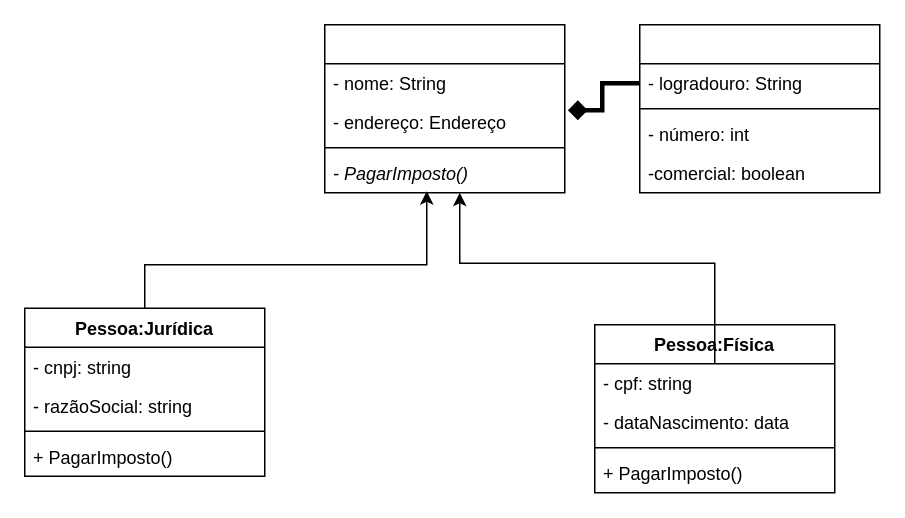
Image size: 905x518. Some labels were removed from this diagram. The box of each missing label's shape, as (x1, y1, x2, y2) in pixels:
Endereço: (638, 23, 880, 193)
Pessoa: (323, 23, 565, 193)
